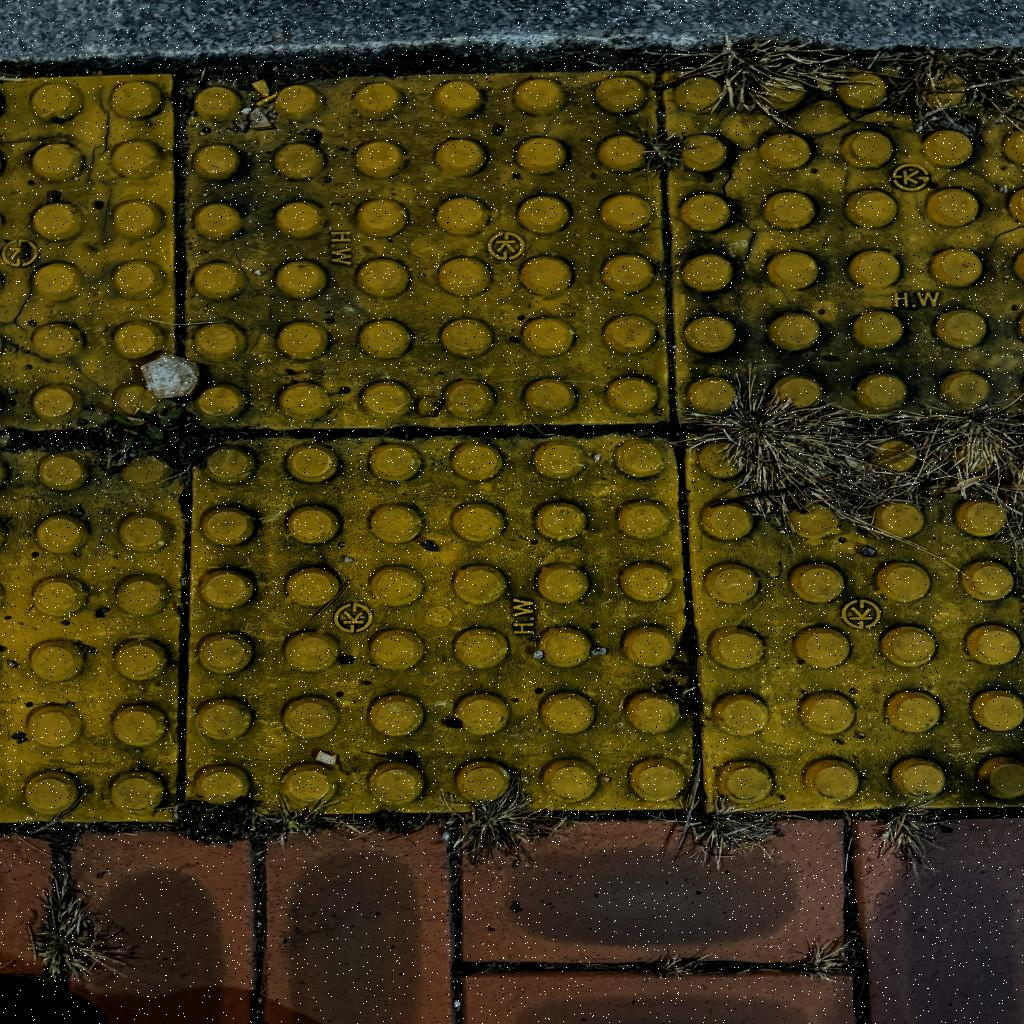Stop block normal: (191, 439, 676, 808)
